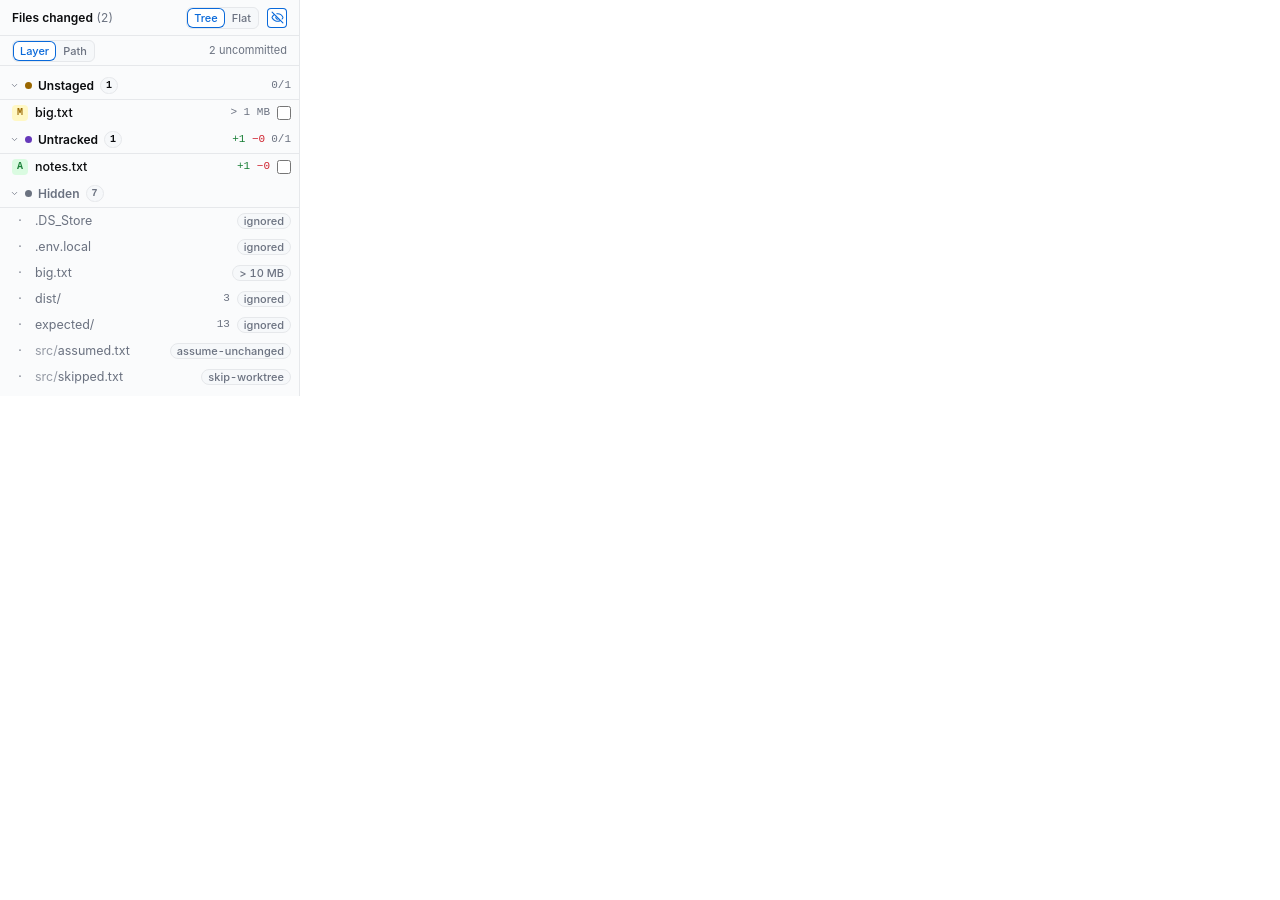
Test: WhyHiddenPopover (Design §14.3, atlas tab 08) › explains an ignored file: rule file, line, pattern and the check-ignore command
The image size is (1280, 900).
Click the list item "· .env.local ignored": (63, 246) [0,234,299,260]
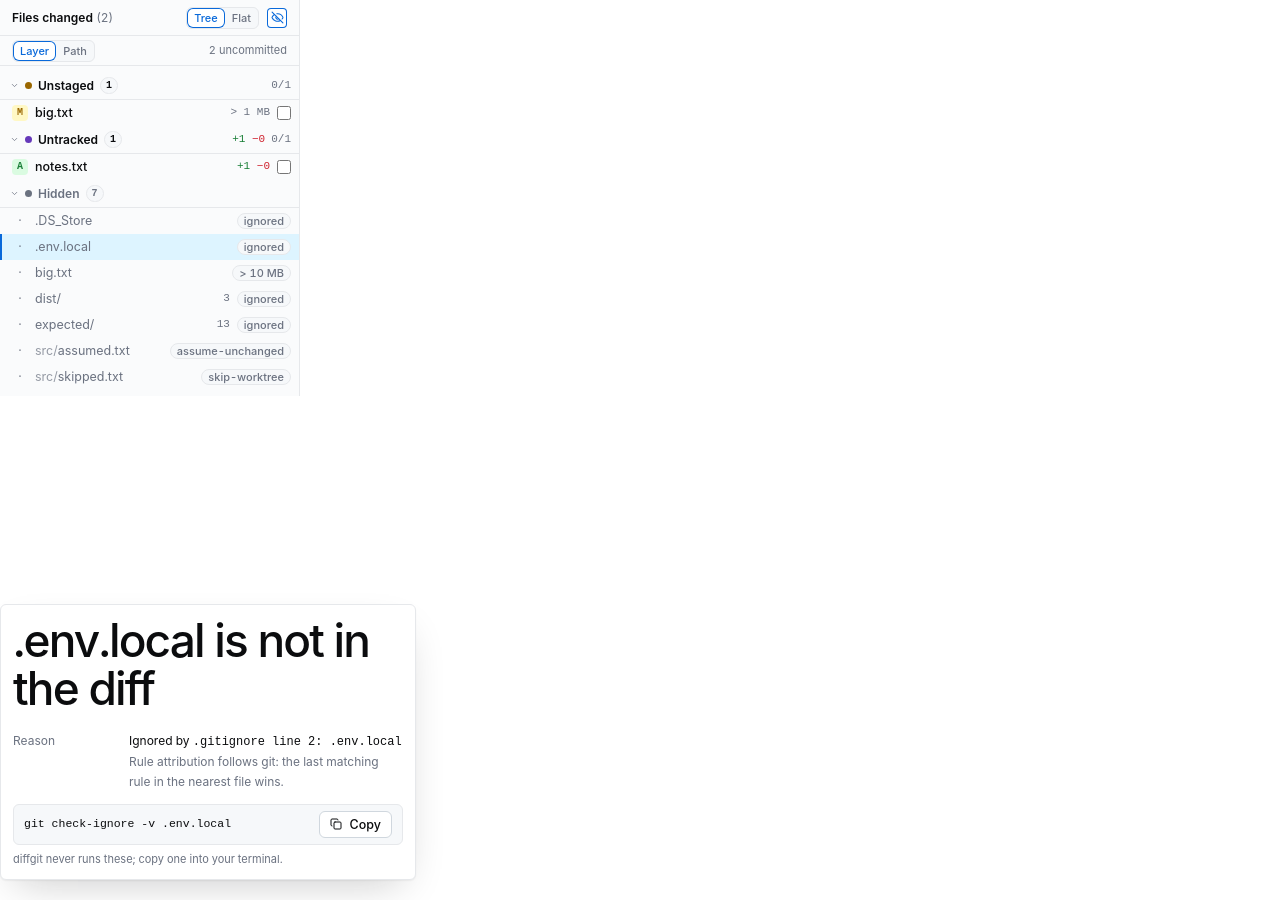
Check: the heading ".env.local is not in the diff" is shown, box [13,617,403,713]
Check: the dialog with test id "why-hidden" shows "Ignored by", box [129,733,190,748]
Check: the dialog with test id "why-hidden" shows ".gitignore line 2: .env.local", box [193,735,402,749]
